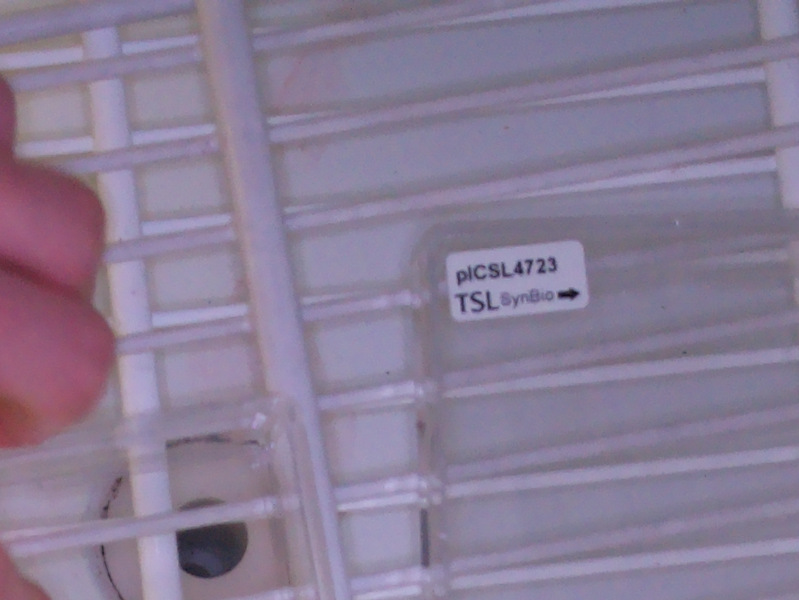plate: (405, 204, 799, 600)
